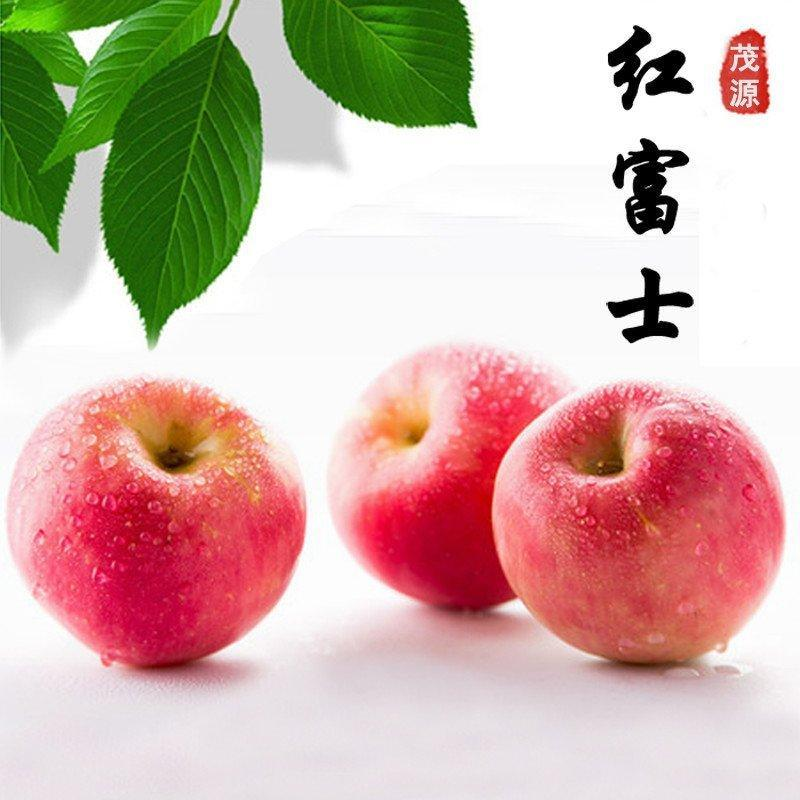apple: (6, 384, 305, 679), (489, 391, 785, 679), (328, 336, 577, 610)
